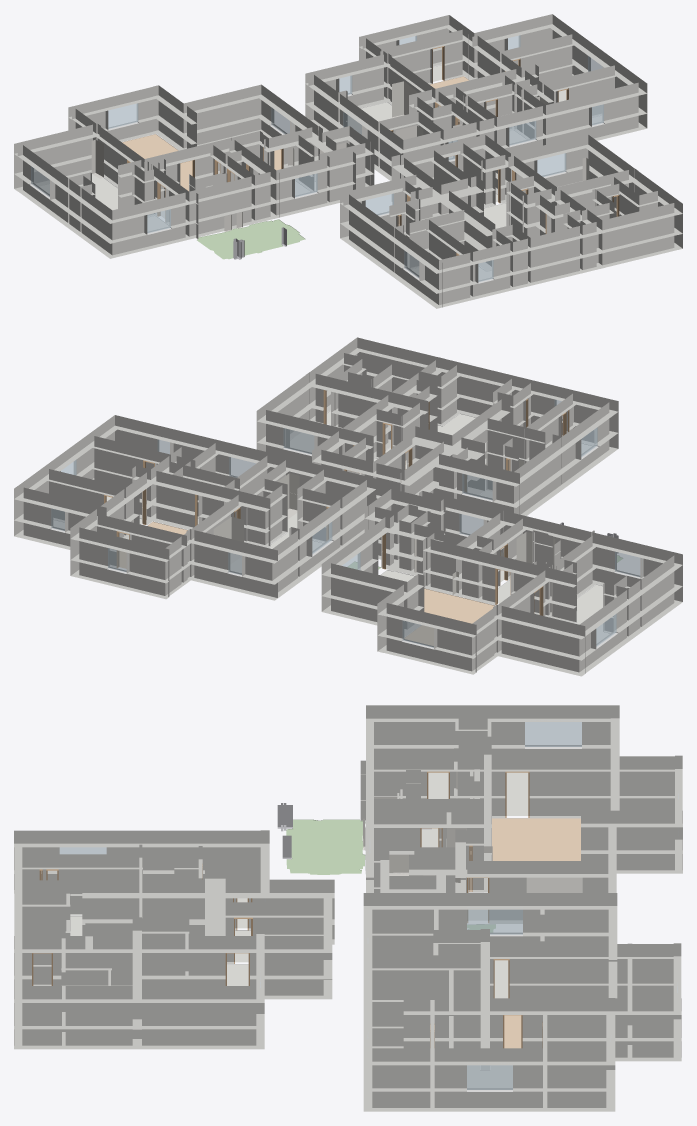
The picture shows the model from 3 angles, top to bottom: view 1: azimuth 30°, elevation 25°; view 2: azimuth 150°, elevation 25°; view 3: azimuth 270°, elevation 25°; orthographic projection. The views are drawn at different scales.
Visible parts, largest first — view 1: walls, floor_33_Outdoor, floor_0_Living_Room, floor_4_Undefined, furniture_1_closet, window_33, floor_20_Undefined, floor_5_Undefined, window_12, window_28, furniture_0_closet, window_9; view 2: walls, floor_0_Living_Room, floor_4_Undefined, window_33, furniture_1_closet, window_12, window_23, furniture_10_closet, furniture_11_closet, window_9; view 3: walls, floor_0_Living_Room, floor_33_Outdoor, floor_4_Undefined, window_3, window_5, window_2, floor_7_Undefined, window_0, floor_20_Undefined, railings, floor_3_Living_Room.
Part boxes in pixels (left/top/right/bottom): walls: left=14, top=14, right=682, bottom=308; floor_33_Outdoor: left=197, top=219, right=305, bottom=259; floor_0_Living_Room: left=122, top=134, right=280, bottom=191; floor_4_Undefined: left=39, top=174, right=168, bottom=231; furniture_1_closet: left=392, top=81, right=418, bottom=117; window_33: left=108, top=103, right=138, bottom=128; floor_20_Undefined: left=478, top=203, right=506, bottom=280; floor_5_Undefined: left=348, top=102, right=452, bottom=158; window_12: left=537, top=153, right=566, bottom=176; window_28: left=509, top=121, right=536, bottom=145; furniture_0_closet: left=91, top=139, right=103, bottom=178; window_9: left=147, top=209, right=170, bottom=232; walls: left=14, top=337, right=682, bottom=676; floor_0_Living_Room: left=404, top=588, right=494, bottom=645; floor_4_Undefined: left=575, top=584, right=609, bottom=643; window_33: left=402, top=620, right=433, bottom=647; furniture_1_closet: left=213, top=517, right=243, bottom=563; window_12: left=283, top=428, right=314, bottom=454; window_23: left=462, top=474, right=492, bottom=500; furniture_10_closet: left=278, top=473, right=299, bottom=519; furniture_11_closet: left=516, top=531, right=555, bottom=563; window_9: left=615, top=551, right=640, bottom=577; walls: left=14, top=705, right=682, bottom=1111; floor_0_Living_Room: left=492, top=818, right=582, bottom=892; floor_33_Outdoor: left=286, top=819, right=365, bottom=874; floor_4_Undefined: left=428, top=772, right=528, bottom=815; window_3: left=525, top=722, right=581, bottom=746; window_5: left=467, top=909, right=522, bottom=934; window_2: left=467, top=1065, right=512, bottom=1089; floor_7_Undefined: left=467, top=1065, right=512, bottom=1087; window_0: left=526, top=877, right=582, bottom=892; floor_20_Undefined: left=70, top=916, right=248, bottom=985; railings: left=277, top=803, right=431, bottom=858; floor_3_Living_Room: left=504, top=1015, right=521, bottom=1048.
Bounding box in the file's own units: 33.72 × 2.72 × 27.48.
